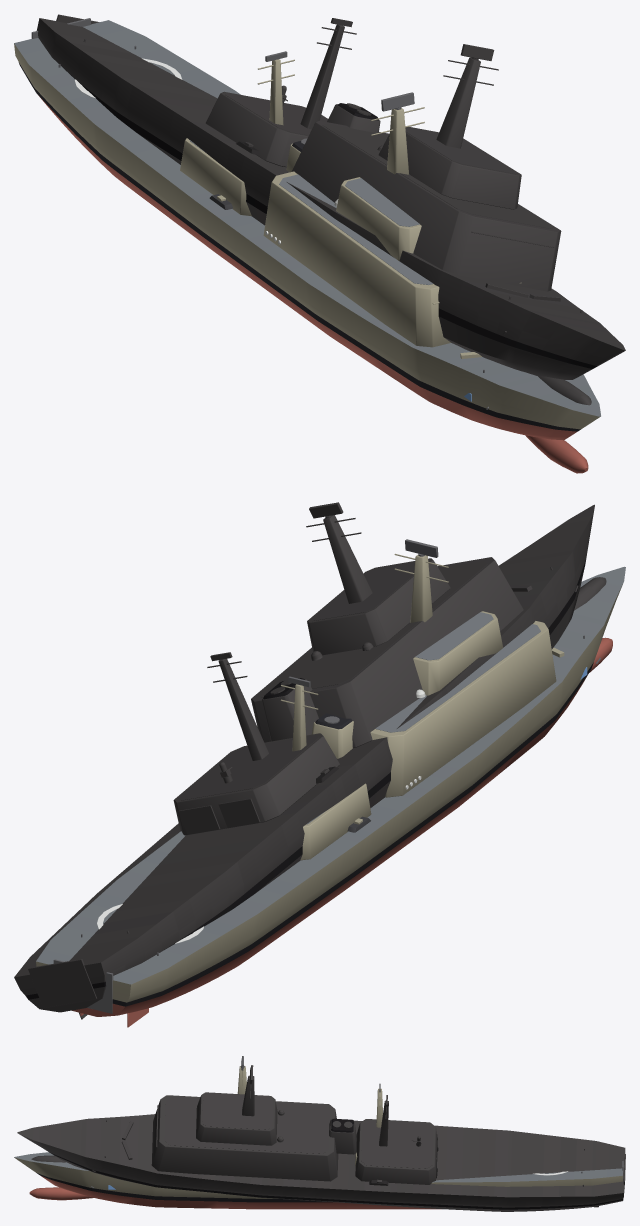
File: landingShip__rotterdam_class.glb
The picture shows the model from 3 angles, top to bottom: view 1: azimuth 30°, elevation 25°; view 2: azimuth 150°, elevation 25°; view 3: azimuth 270°, elevation 25°; orthographic projection. The views are drawn at different scales.
Visible parts, largest first — view 1: Wreck, Hull_Mesh; view 2: Wreck, Hull_Mesh; view 3: Wreck, Hull_Mesh.
Boxes of the visible parts, x1=… form: Wreck: x1=36, y1=14, x2=625, y2=405; Hull_Mesh: x1=14, y1=18, x2=600, y2=473; Wreck: x1=14, y1=502, x2=606, y2=1019; Hull_Mesh: x1=36, y1=553, x2=625, y2=1027; Wreck: x1=17, y1=1065, x2=625, y2=1211; Hull_Mesh: x1=14, y1=1066, x2=623, y2=1209.
Size of what is drawn, in the model's own units: 33.47 by 49.08 by 174.
